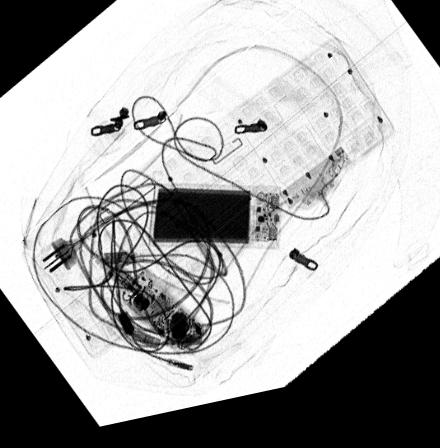Powerbank: (148, 189, 283, 261)
